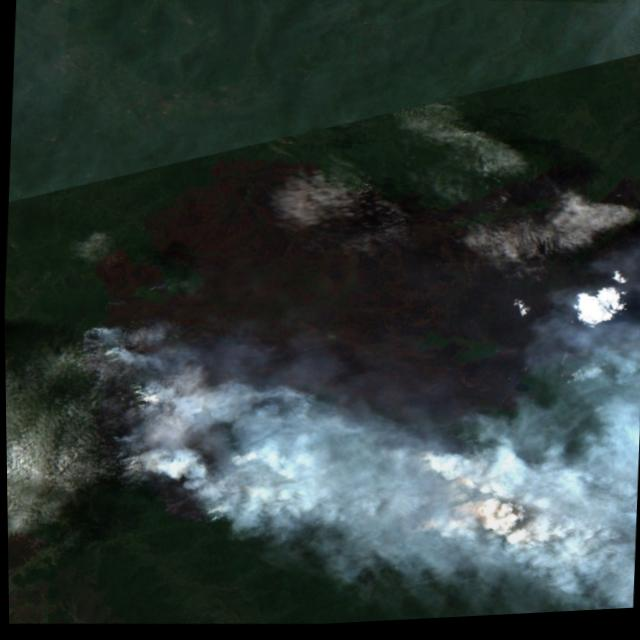fire: (60, 313, 264, 537), (358, 432, 512, 560)
